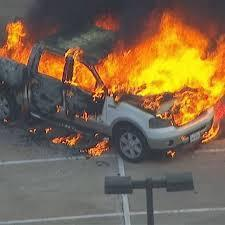fire: (67, 2, 222, 122), (0, 15, 32, 66), (37, 46, 65, 80), (83, 137, 110, 157), (50, 133, 79, 147), (199, 125, 222, 140), (165, 149, 177, 158), (28, 126, 37, 133), (43, 127, 53, 132)
